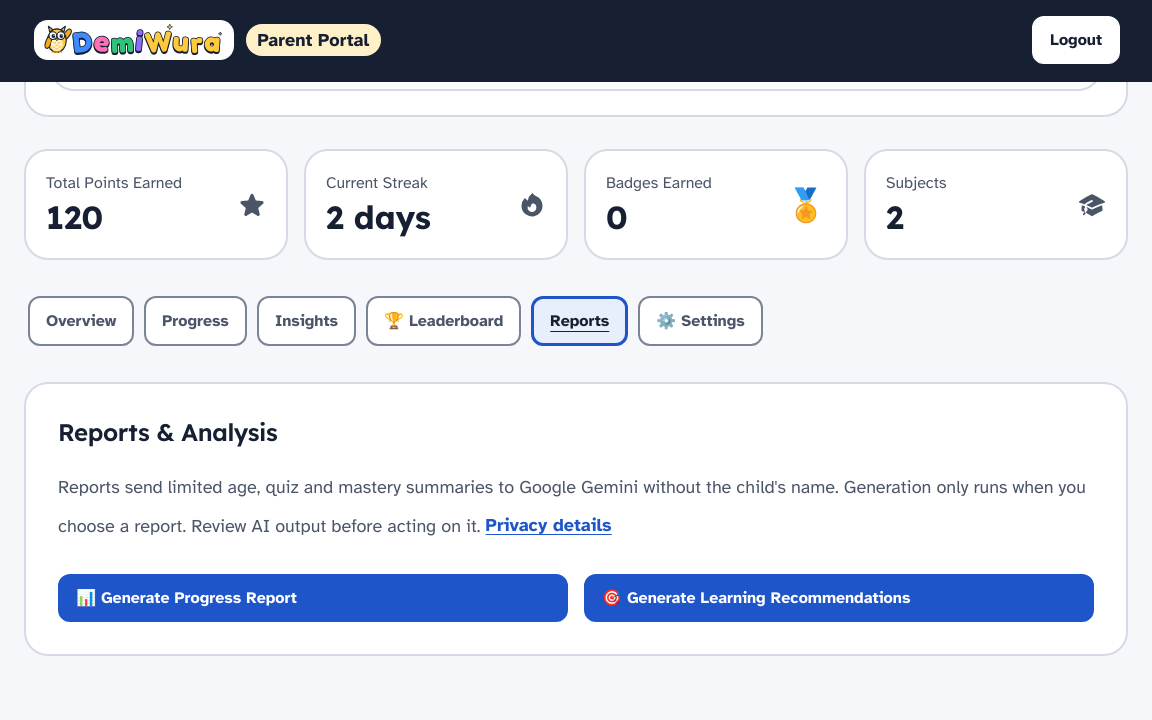
Test: Clear Path parent presentation preserves existing actions and data › preserves report generation, disclosure and the existing data arguments
(page scrolled)
Check: the text "Reports send limited age, quiz and mastery summaries" is shown, box [58,476,1086,536]
Click the button "📊 Generate Progress Report". click: [186, 598]
box: [58,574,568,622]
(page scrolled)
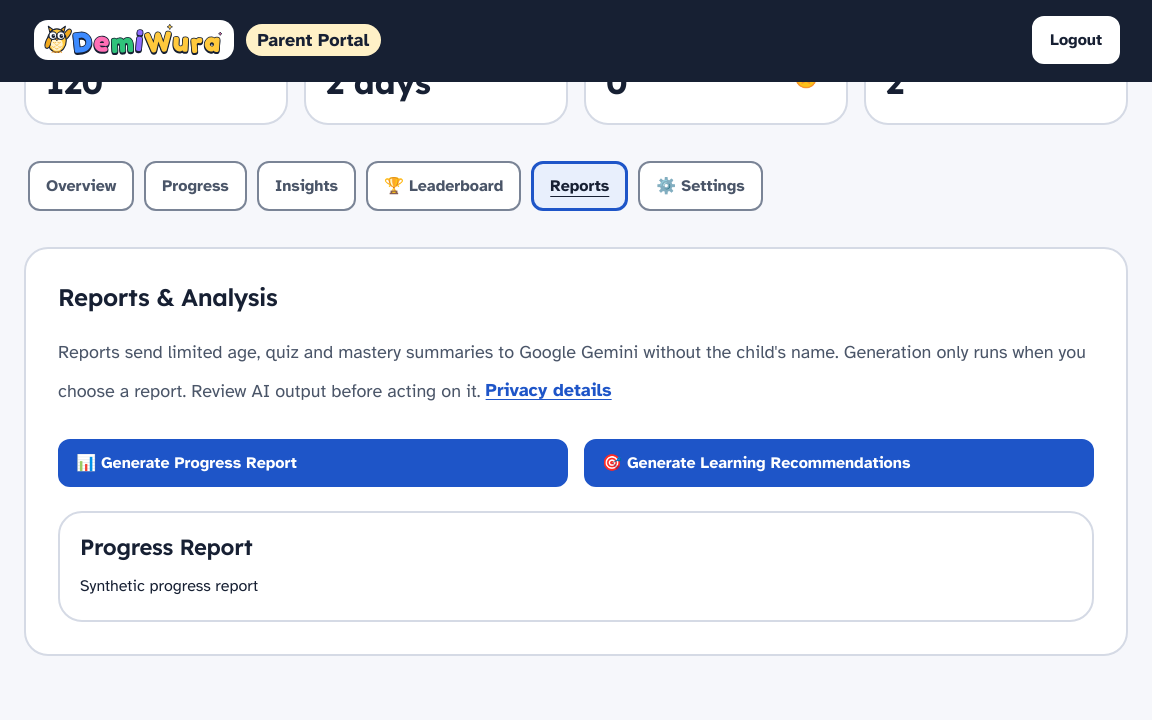
Check: the text "Synthetic progress report" is shown, box [80,576,258,596]
